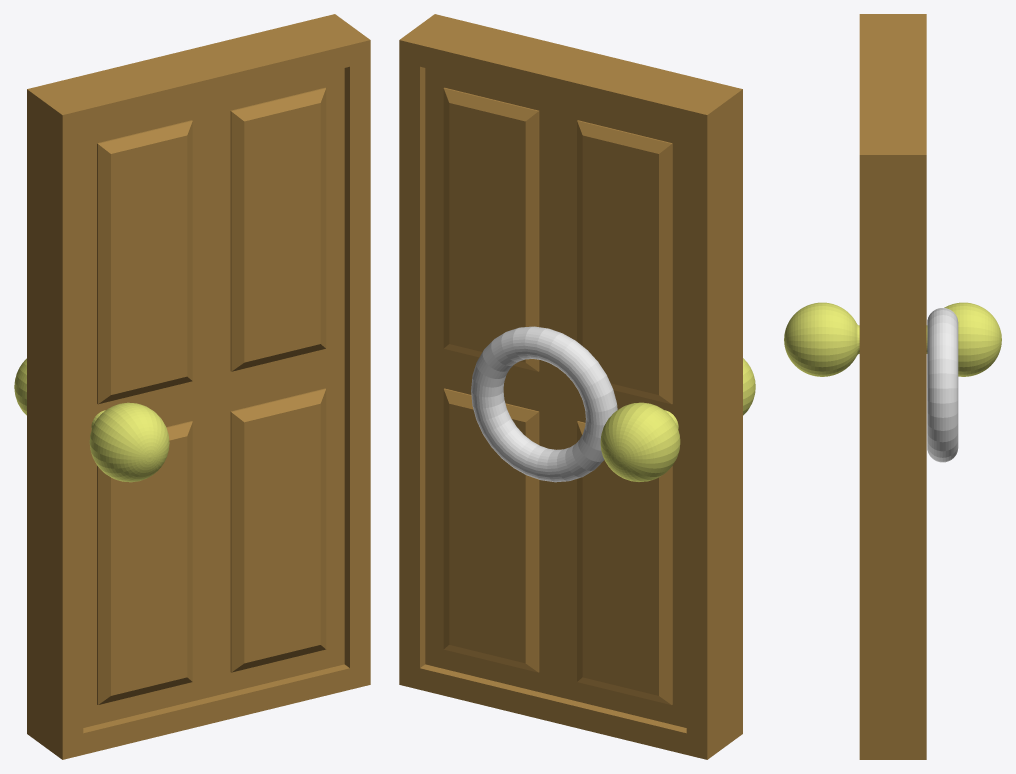
The model's file is door2side.fbx.
The picture shows the model from 3 angles, left to right: view 1: azimuth 30°, elevation 25°; view 2: azimuth 150°, elevation 25°; view 3: azimuth 270°, elevation 25°; orthographic projection. The views are drawn at different scales.
Visible parts, largest first — view 1: Cube, Sphere.001; view 2: Cube, Torus, Sphere; view 3: Cube, Torus, Sphere.001, Sphere.
Boxes of the visible parts, bbox=[...] form: Cube: bbox=[27, 14, 370, 759]; Sphere.001: bbox=[89, 402, 169, 482]; Cube: bbox=[399, 14, 742, 759]; Torus: bbox=[471, 326, 617, 482]; Sphere: bbox=[600, 402, 680, 481]; Cube: bbox=[859, 14, 926, 759]; Torus: bbox=[927, 308, 958, 462]; Sphere.001: bbox=[784, 302, 859, 376]; Sphere: bbox=[926, 302, 1001, 376].
Size of the model in its own units: 200 by 400 by 131.
